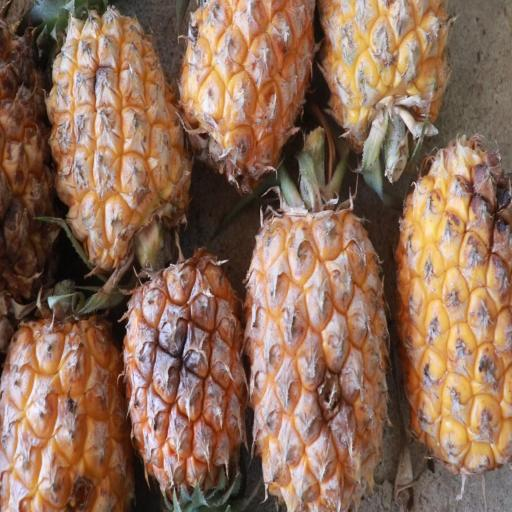Pineapple - v8 v1: (244, 159, 392, 512), (392, 138, 511, 486), (43, 6, 190, 268), (121, 241, 246, 512), (3, 296, 133, 512), (178, 2, 319, 185), (0, 0, 65, 312), (329, 3, 459, 158), (330, 0, 360, 161)
